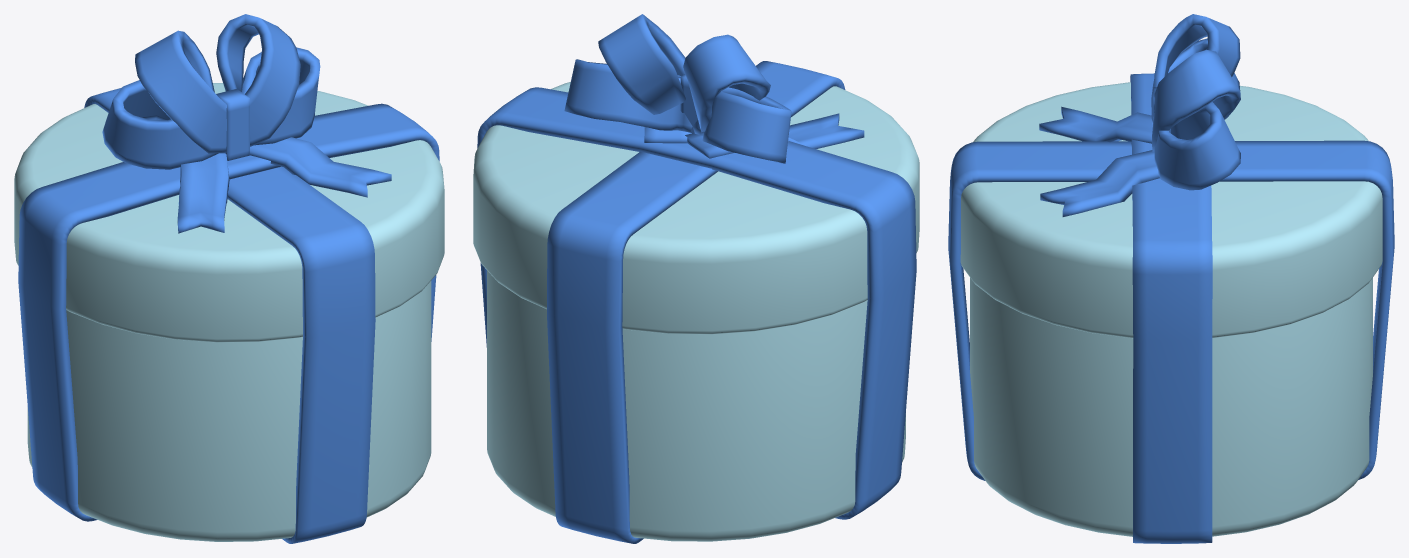
The model's file is present3.glb.
3 renders of one model, left to right at view 1: azimuth 30°, elevation 25°; view 2: azimuth 150°, elevation 25°; view 3: azimuth 270°, elevation 25°, orthographic. The views are drawn at different scales.
Visible parts, largest first — view 1: Box, Box.001, Ribbon.001, Ribbon.002, Ribbon, Ribbon.004, Ribbon.003, Ribbon.005; view 2: Box, Box.001, Ribbon.001, Ribbon.002, Ribbon, Ribbon.004, Ribbon.003; view 3: Box, Box.001, Ribbon.002, Ribbon.001, Ribbon, Ribbon.003, Ribbon.004.
Part boxes in pixels (x1,y1,x2,y2): Box: (27,281,431,541); Box.001: (14,83,444,342); Ribbon.001: (84,88,375,543); Ribbon.002: (18,103,439,521); Ribbon: (135,14,300,153); Ribbon.004: (102,47,320,169); Ribbon.003: (177,137,391,233); Ribbon.005: (216,89,249,160); Box: (487,270,905,541); Box.001: (473,82,919,334); Ribbon.001: (547,61,845,543); Ribbon.002: (477,87,916,519); Ribbon: (598,14,770,132); Ribbon.004: (564,59,791,163); Ribbon.003: (644,113,864,158); Box: (970,278,1372,536); Box.001: (960,82,1382,338); Ribbon.002: (1130,73,1212,543); Ribbon.001: (948,140,1394,480); Ribbon: (1151,14,1240,151); Ribbon.003: (1039,106,1159,216); Ribbon.004: (1154,38,1240,190).
Size of the model in its own units: 1.9 by 2.02 by 1.9.
